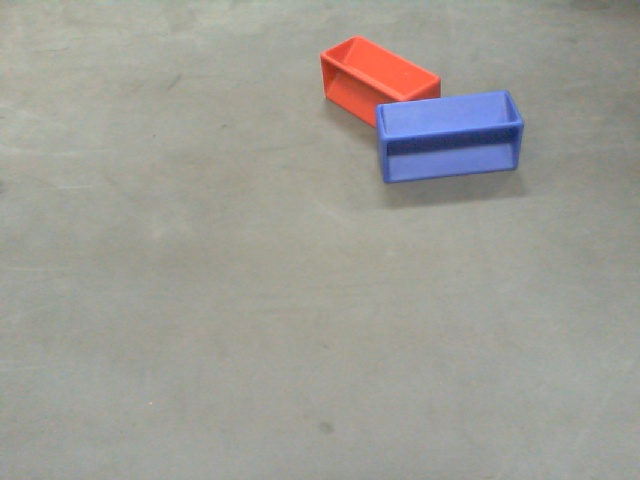BlueSample: (374, 90, 523, 182)
RedSample: (320, 34, 443, 125)
